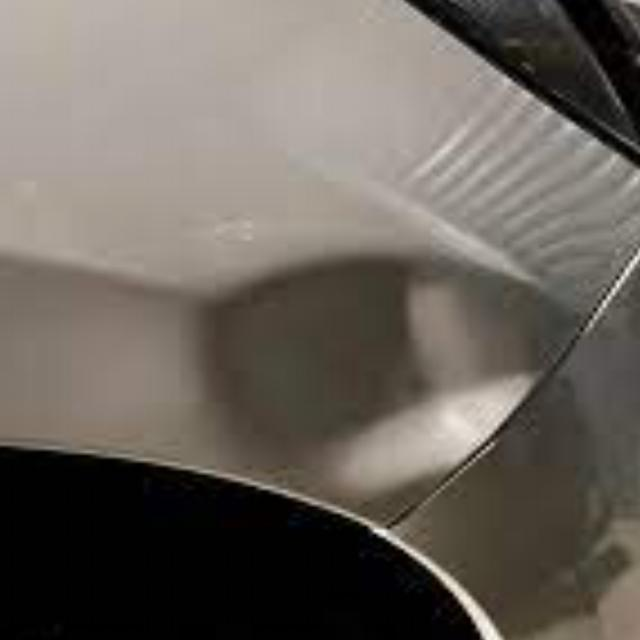dents: (192, 238, 576, 495)
